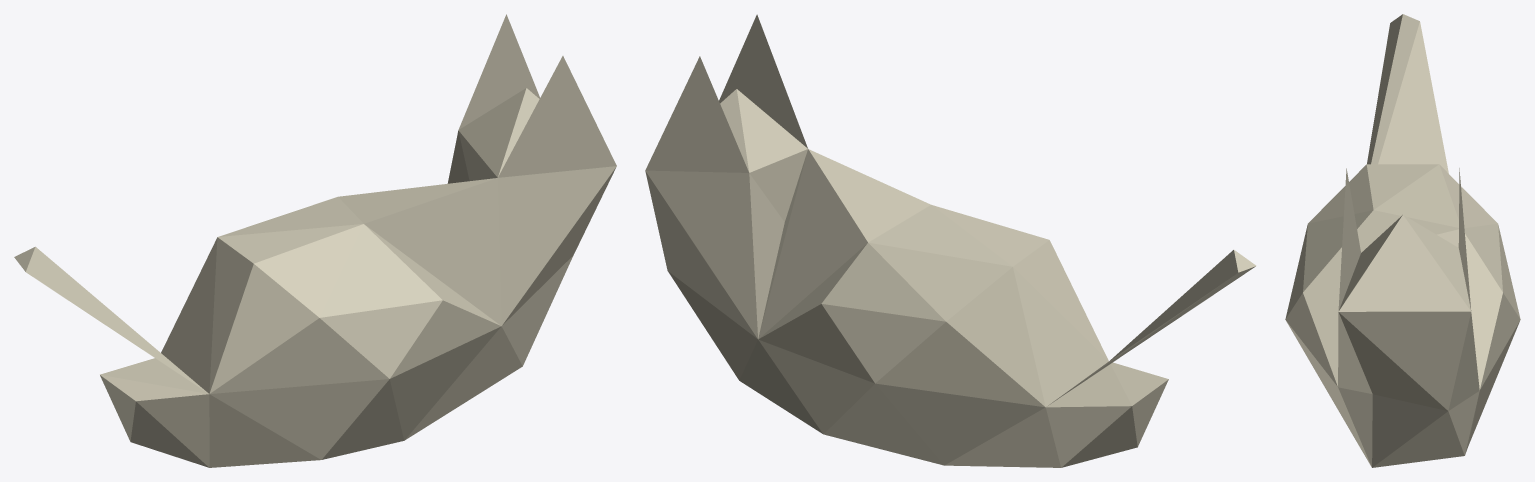
Rendered from oveja_vita.obj.
3 renders of one model, left to right at view 1: azimuth 30°, elevation 25°; view 2: azimuth 150°, elevation 25°; view 3: azimuth 270°, elevation 25°, orthographic.
Size of the model in its own units: 1.6 by 0.9518 by 0.575.
